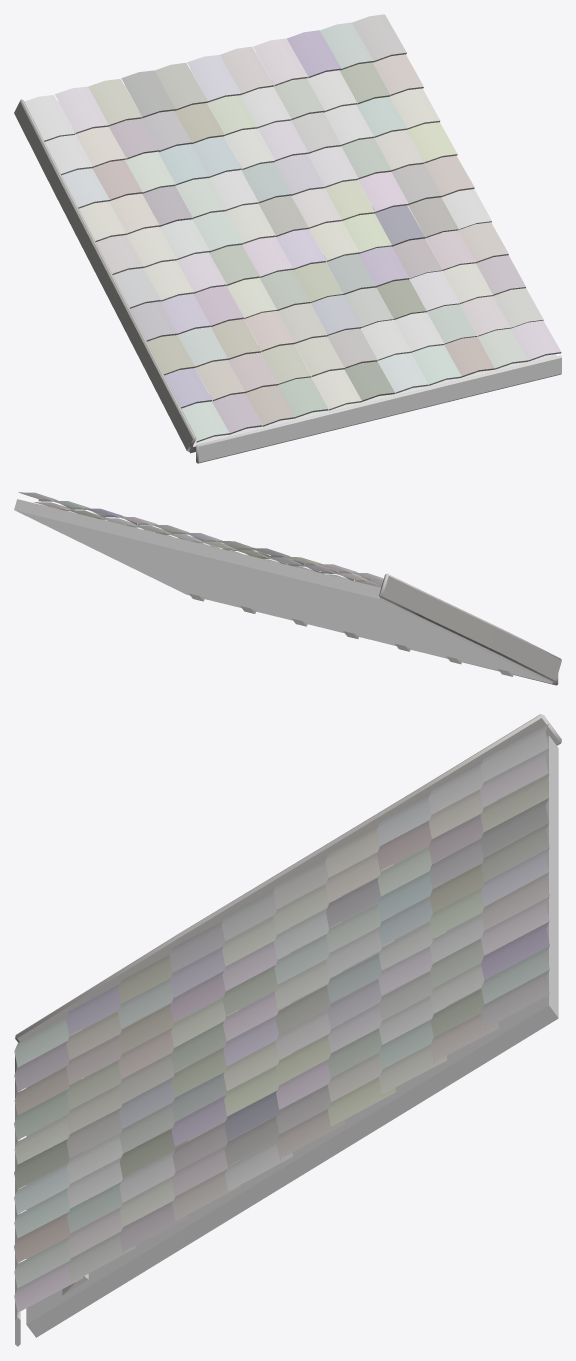
The model's file is Kit_RealBakery_RfLF.fbx.
3 renders of one model, top to bottom at view 1: azimuth 30°, elevation 25°; view 2: azimuth 150°, elevation 25°; view 3: azimuth 270°, elevation 25°, orthographic. The views are drawn at different scales.
Parts seen in each view (by area): view 1: Kit_RealBakery_RfLF_LOD0; view 2: Kit_RealBakery_RfLF_LOD0; view 3: Kit_RealBakery_RfLF_LOD0.
Part boxes in pixels (x1,y1,x2,y2): Kit_RealBakery_RfLF_LOD0: (14, 14, 561, 463); Kit_RealBakery_RfLF_LOD0: (14, 492, 561, 685); Kit_RealBakery_RfLF_LOD0: (14, 714, 561, 1346).
Size of what is drawn, in the model's own units: 4.46 by 2.75 by 3.77.
